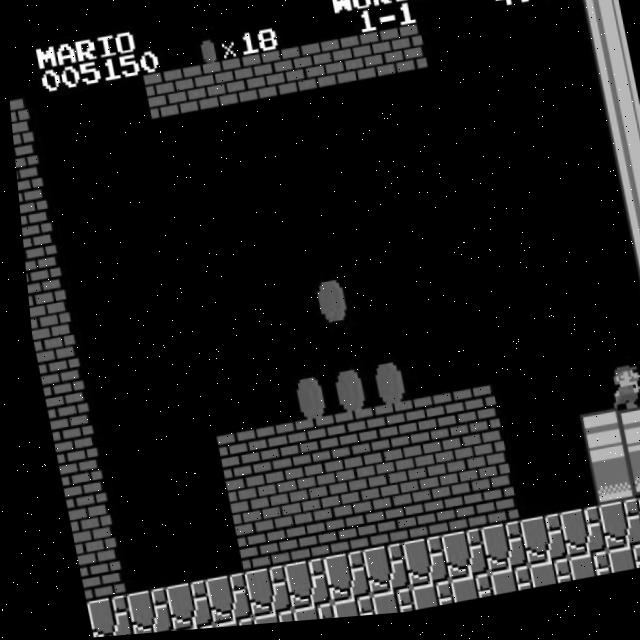1- brick_block: (140, 71, 190, 124), (214, 477, 264, 530), (222, 522, 272, 575), (179, 64, 229, 117), (253, 471, 303, 524), (262, 515, 312, 568), (219, 57, 269, 110), (293, 464, 343, 517), (301, 509, 351, 562), (258, 51, 308, 104), (332, 457, 382, 510), (341, 502, 391, 555), (298, 44, 348, 97), (380, 495, 430, 548), (377, 31, 427, 84), (451, 437, 501, 490), (459, 482, 509, 535), (372, 451, 422, 503), (32, 368, 81, 421), (65, 549, 114, 602), (338, 37, 387, 90), (412, 443, 461, 496), (420, 489, 469, 542), (40, 414, 89, 466), (246, 425, 295, 477), (285, 419, 334, 471), (325, 412, 374, 464), (364, 405, 413, 457), (443, 392, 492, 444), (206, 433, 255, 484), (49, 459, 97, 511), (57, 504, 105, 556), (404, 399, 452, 451), (25, 323, 71, 375), (21, 278, 64, 330), (18, 233, 56, 285), (14, 188, 47, 239), (11, 142, 39, 193), (7, 97, 31, 148)
11- little_mario: (590, 375, 640, 431)
14- pipe: (582, 42, 631, 94), (591, 87, 639, 139), (574, 0, 624, 49), (598, 132, 640, 185), (607, 177, 640, 230), (609, 410, 640, 463), (615, 222, 640, 274), (617, 455, 640, 508), (622, 267, 640, 320), (631, 313, 640, 365), (639, 359, 640, 410)
15- pipe_head: (569, 417, 619, 470), (577, 462, 627, 515)
17- undestructible_block: (191, 575, 241, 628), (270, 561, 320, 614), (349, 547, 399, 600), (388, 541, 438, 594), (428, 534, 478, 587), (467, 527, 517, 580), (507, 521, 557, 574), (546, 514, 596, 567), (586, 507, 636, 560), (231, 568, 280, 621), (152, 581, 201, 633), (310, 555, 359, 607), (112, 588, 161, 636), (73, 594, 121, 638), (436, 579, 482, 609), (397, 586, 442, 616), (555, 559, 600, 589), (476, 573, 521, 602), (515, 566, 560, 595), (594, 553, 639, 582), (358, 592, 402, 620), (318, 599, 362, 623), (278, 606, 322, 625), (625, 501, 640, 554), (239, 613, 282, 628), (199, 620, 242, 630), (634, 545, 640, 575)
2- coin: (277, 374, 327, 427), (316, 367, 366, 420), (300, 276, 349, 329), (356, 360, 405, 413)
